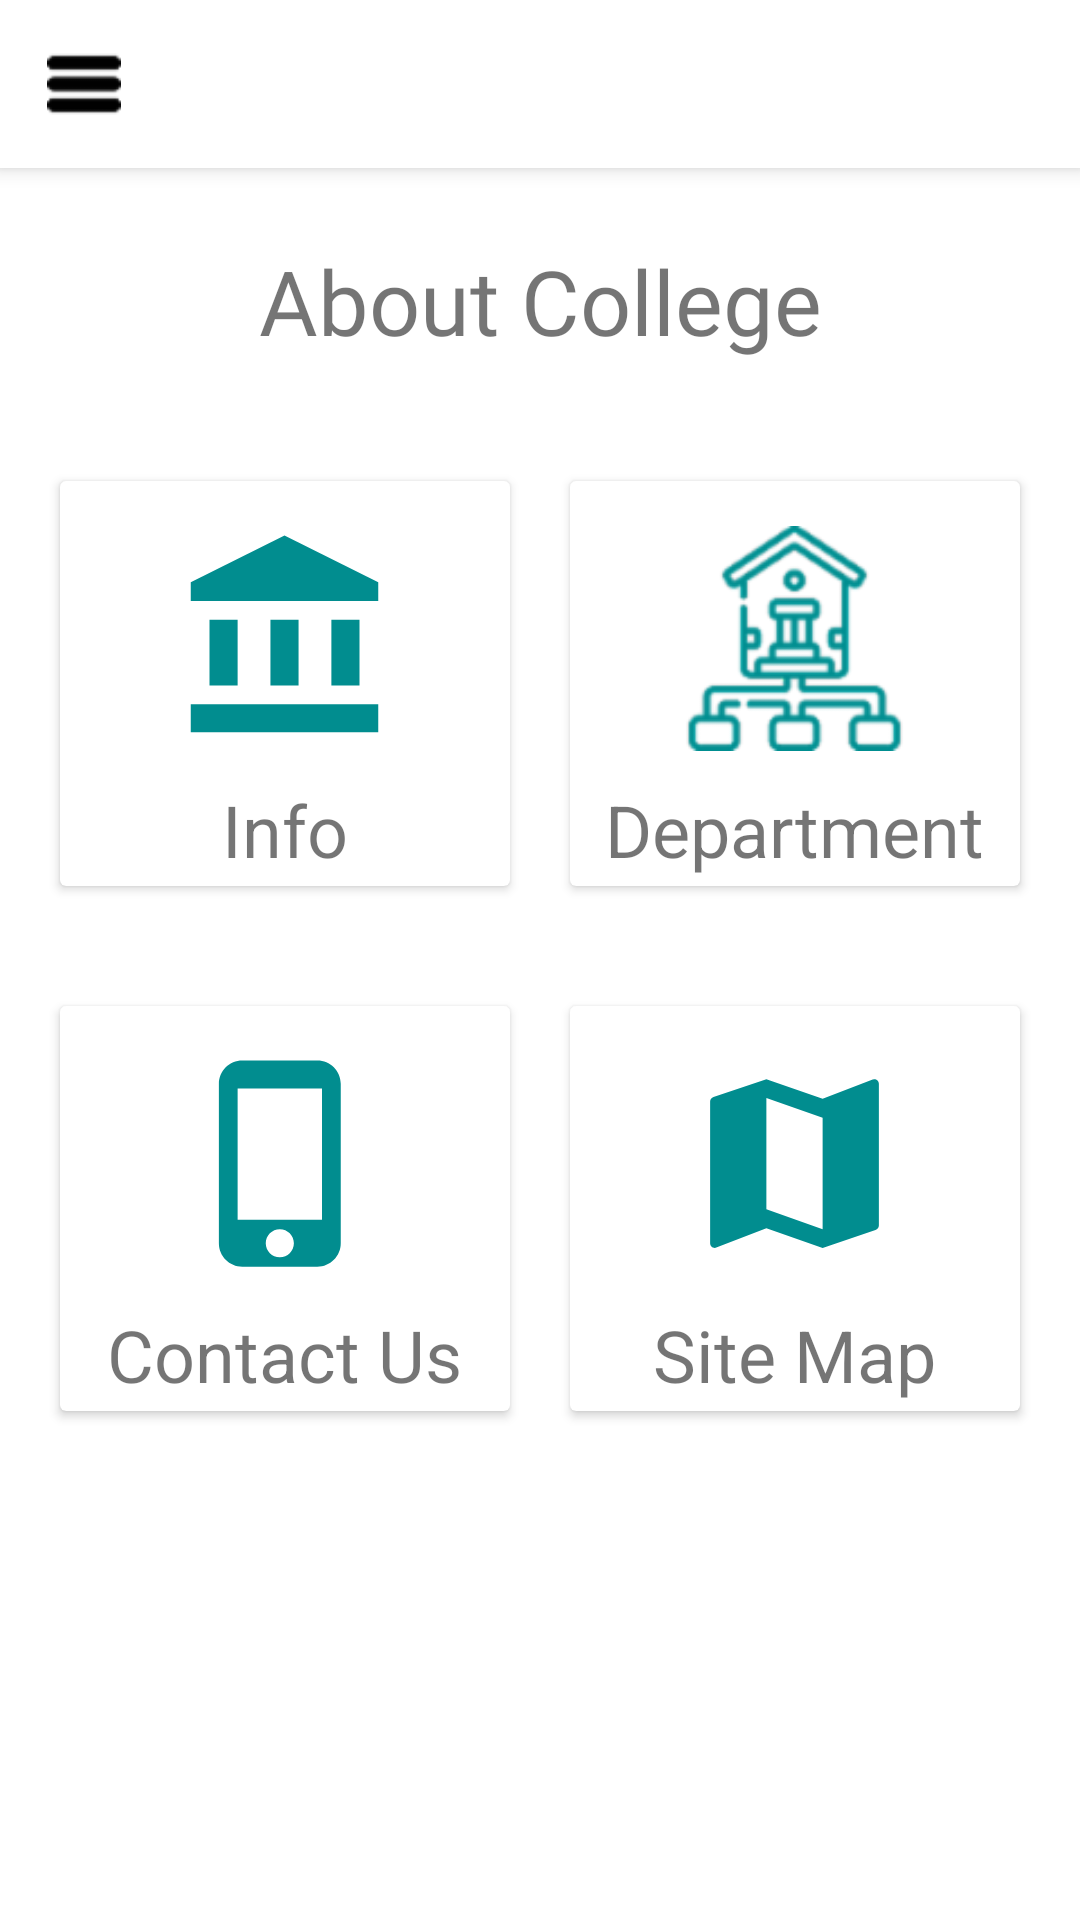

Where to tap for icons on this 1080px x 1920px app screen, as point (x, y):
account balance: point (284, 634)
phone iphone: point (279, 1163)
